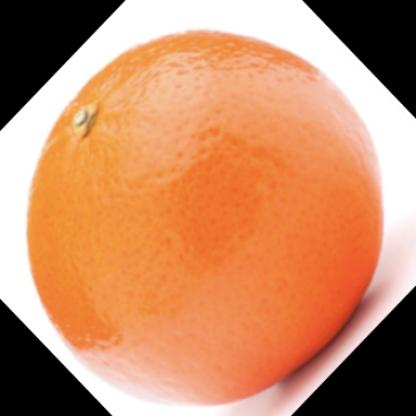fresh: (29, 30, 383, 400)
